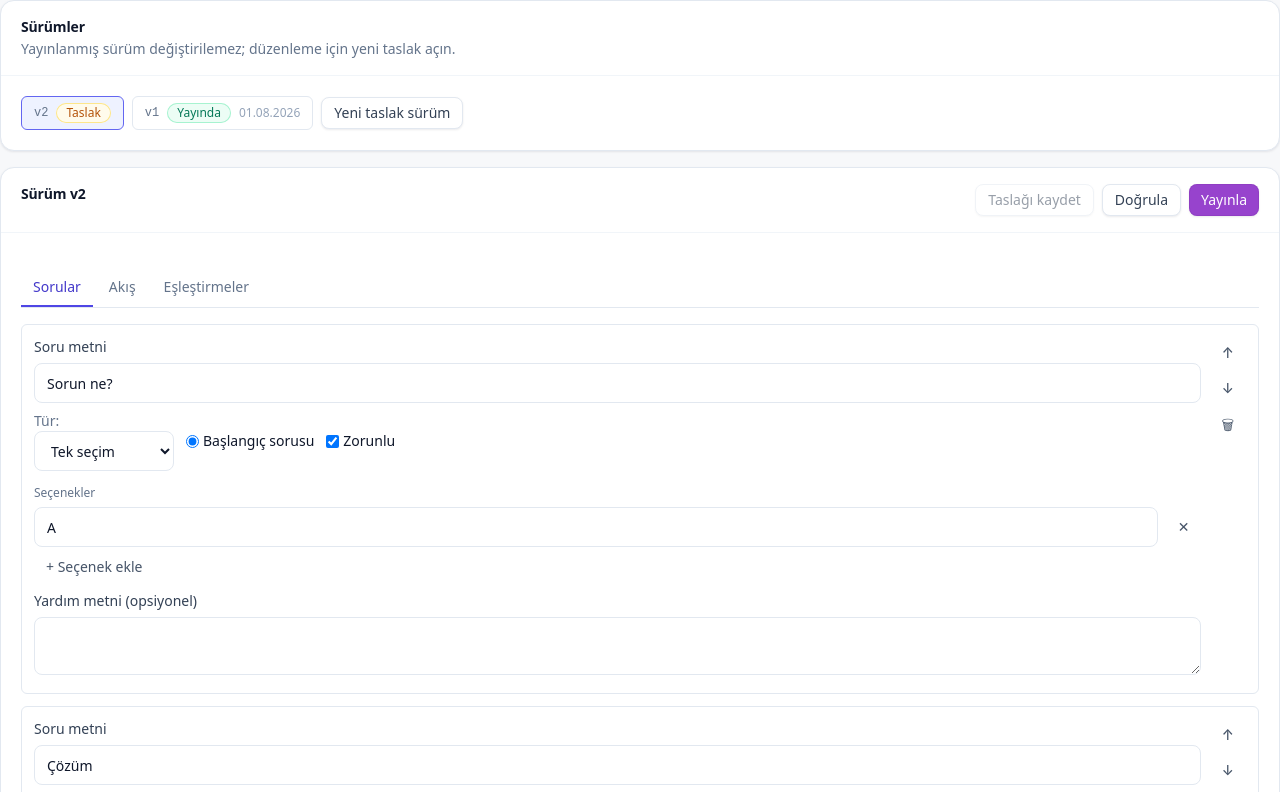
Test case: Question Sets — Platform Admin UI › editor shows version status human-readably and marks published version immutable
Check: the text "Taslak" is shown, box [56,103,111,123]
Check: the text "Yayında" is shown, box [167,103,231,123]
Step 1. Click the text "v1" → (152, 113), box [145,105,159,121]
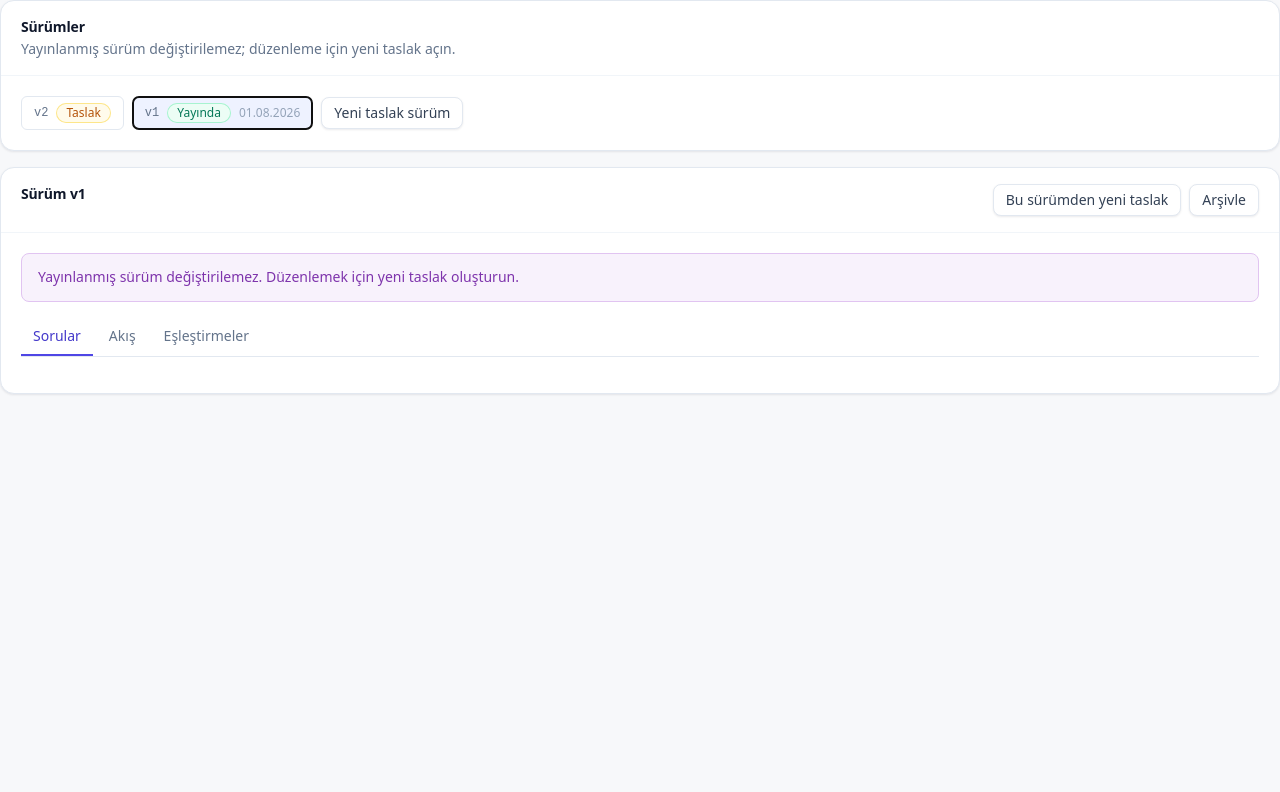
Check: the button "Bu sürümden yeni taslak" is shown, box [993,184,1181,216]
Check: the text "Düzenlemek için yeni taslak oluşturun" is shown, box [38,267,519,286]
